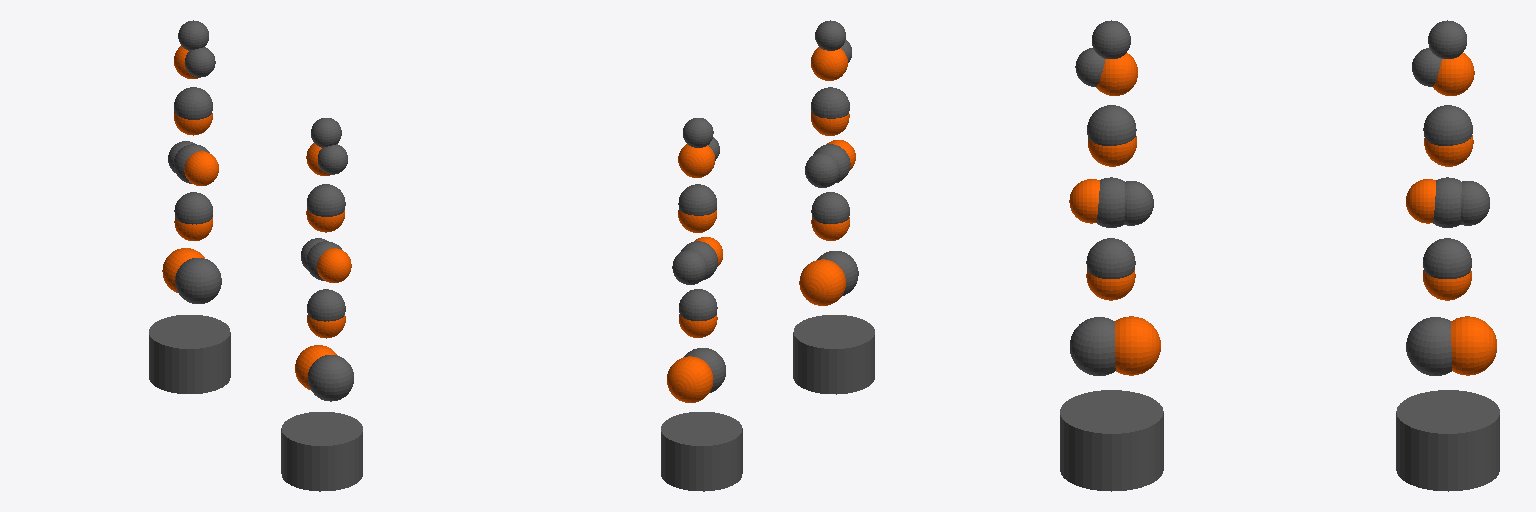
--- Facts derived from the render (not from the file) ---
The picture shows the robot from 3 angles, left to right: view 1: azimuth 30°, elevation 25°; view 2: azimuth 150°, elevation 25°; view 3: azimuth 270°, elevation 25°; orthographic projection.
Model dual_iiwa14 with 21 links and 20 joints (14 revolute, 6 fixed), rooted at base, posed every joint at zero.
Links seen in each view (by area): view 1: right_iiwa_link_0, left_iiwa_link_0, left_iiwa_link_5, right_iiwa_link_5, right_iiwa_link_3, left_iiwa_link_3, left_iiwa_link_1, right_iiwa_link_1, left_iiwa_link_4, right_iiwa_link_4, right_iiwa_link_2, left_iiwa_link_2 (+2 smaller); view 2: right_iiwa_link_0, left_iiwa_link_0, left_iiwa_link_3, right_iiwa_link_3, left_iiwa_link_2, right_iiwa_link_2, left_iiwa_link_5, right_iiwa_link_5, right_iiwa_link_6, left_iiwa_link_6, right_iiwa_link_4, left_iiwa_link_4 (+4 smaller); view 3: left_iiwa_link_0, right_iiwa_link_0, left_iiwa_link_3, right_iiwa_link_3, right_iiwa_link_2, left_iiwa_link_2, left_iiwa_link_5, right_iiwa_link_5, right_iiwa_link_1, left_iiwa_link_1, left_iiwa_link_4, right_iiwa_link_4 (+4 smaller).
Boxes of the visible links, left/top/right/bottom form: right_iiwa_link_0: left=281, top=412, right=362, bottom=491; left_iiwa_link_0: left=149, top=315, right=230, bottom=393; left_iiwa_link_5: left=174, top=47, right=215, bottom=119; right_iiwa_link_5: left=307, top=144, right=347, bottom=216; right_iiwa_link_3: left=301, top=238, right=345, bottom=321; left_iiwa_link_3: left=168, top=141, right=212, bottom=224; left_iiwa_link_1: left=175, top=258, right=221, bottom=303; right_iiwa_link_1: left=308, top=355, right=353, bottom=401; left_iiwa_link_4: left=174, top=111, right=218, bottom=185; right_iiwa_link_4: left=306, top=209, right=351, bottom=282; right_iiwa_link_2: left=295, top=315, right=345, bottom=389; left_iiwa_link_2: left=162, top=217, right=212, bottom=292; right_iiwa_link_0: left=793, top=315, right=874, bottom=394; left_iiwa_link_0: left=661, top=412, right=742, bottom=491; left_iiwa_link_3: left=672, top=241, right=717, bottom=320; right_iiwa_link_3: left=805, top=144, right=850, bottom=223; left_iiwa_link_2: left=667, top=314, right=717, bottom=402; right_iiwa_link_2: left=799, top=217, right=849, bottom=305; left_iiwa_link_5: left=678, top=137, right=719, bottom=215; right_iiwa_link_5: left=811, top=40, right=851, bottom=118; right_iiwa_link_6: left=811, top=47, right=847, bottom=80; left_iiwa_link_6: left=678, top=144, right=714, bottom=177; right_iiwa_link_4: left=811, top=111, right=855, bottom=170; left_iiwa_link_4: left=678, top=210, right=722, bottom=266; left_iiwa_link_0: left=1396, top=390, right=1499, bottom=491; right_iiwa_link_0: left=1060, top=390, right=1163, bottom=491; left_iiwa_link_3: left=1423, top=177, right=1489, bottom=278; right_iiwa_link_3: left=1086, top=177, right=1153, bottom=278; right_iiwa_link_2: left=1086, top=270, right=1160, bottom=375; left_iiwa_link_2: left=1423, top=270, right=1496, bottom=375; left_iiwa_link_5: left=1412, top=48, right=1472, bottom=145; right_iiwa_link_5: left=1075, top=48, right=1136, bottom=145; right_iiwa_link_1: left=1070, top=317, right=1115, bottom=375; left_iiwa_link_1: left=1406, top=317, right=1451, bottom=375; left_iiwa_link_4: left=1406, top=135, right=1473, bottom=223; right_iiwa_link_4: left=1069, top=136, right=1136, bottom=223.
Size in the robot's own frame: 0.278 by 1.18 by 1.33 metres.
Geometry: primitives only (box / cylinder / sphere), no mesh files.

robot.urdf — dual_iiwa14:
<?xml version="1.0" ?>
<!-- =================================================================================== -->
<!-- |    This document was autogenerated by xacro from urdf/dual_iiwa14_polytope_collision.urdf.xacro | -->
<!-- |    EDITING THIS FILE BY HAND IS NOT RECOMMENDED                                 | -->
<!-- =================================================================================== -->
<!-- ===================================================================== -->
<!-- This URDF contains two instances of the iiwa14_polytope_collision models, a
     left one and a right one. They can be distinguished by a "left_" and
     "right_" prefix in front of their link, joint, and transmission names.

     Collision models: complex meshes can drastically affect run time.
     Therefore most collision models are omitted in this model and link 7 uses a
     polytope model.
-->
<!-- ===================================================================== -->
<robot name="dual_iiwa14" xmlns:xacro="http://www.ros.org/wiki/xacro">
  <!-- Import Rviz colors -->
  <material name="Black">
    <color rgba="0.0 0.0 0.0 1.0"/>
  </material>
  <material name="Blue">
    <color rgba="0.0 0.0 0.8 1.0"/>
  </material>
  <material name="Green">
    <color rgba="0.0 0.8 0.0 1.0"/>
  </material>
  <material name="Grey">
    <color rgba="0.4 0.4 0.4 1.0"/>
  </material>
  <material name="Orange">
    <color rgba="1.0 0.423529411765 0.0392156862745 1.0"/>
  </material>
  <material name="Brown">
    <color rgba="0.870588235294 0.811764705882 0.764705882353 1.0"/>
  </material>
  <material name="Red">
    <color rgba="0.8 0.0 0.0 1.0"/>
  </material>
  <material name="White">
    <color rgba="1.0 1.0 1.0 1.0"/>
  </material>
  <!-- Defines a base link that will serve as the model's root. This is
  necessary since URDF requires that the model be a tree.-->
  <link name="base"/>
  <!--joint between {parent} and link_0-->
  <joint name="left_iiwa_base_joint" type="fixed">
    <origin rpy="0 0 0" xyz="0 0.9 0"/>
    <parent link="base"/>
    <child link="left_iiwa_link_0"/>
  </joint>
  <link name="left_iiwa_link_0">
    <inertial>
      <origin rpy="0 0 0" xyz="-0.1 0 0.07"/>
      <mass value="5"/>
      <inertia ixx="0.05" ixy="0" ixz="0" iyy="0.06" iyz="0" izz="0.03"/>
    </inertial>
    <visual>
      <origin rpy="0 0 0" xyz="-0.015 0 0.07"/>
      <geometry>
        <cylinder length="0.17" radius="0.139"/>
      </geometry>
      <material name="Grey"/>
    </visual>
    <collision>
      <origin rpy="0 0 0" xyz="-0.015 0 0.07"/>
      <geometry>
        <cylinder length="0.17" radius="0.139"/>
      </geometry>
      <material name="Grey"/>
    </collision>
    <self_collision_checking>
      <origin rpy="0 0 0" xyz="0 0 0"/>
      <geometry>
        <capsule length="0.25" radius="0.15"/>
      </geometry>
    </self_collision_checking>
  </link>
  <!-- joint between link_0 and link_1 -->
  <joint name="left_iiwa_joint_1" type="revolute">
    <parent link="left_iiwa_link_0"/>
    <child link="left_iiwa_link_1"/>
    <origin rpy="0 0 0" xyz="0 0 0.1575"/>
    <axis xyz="0 0 1"/>
    <limit effort="300" lower="-2.96705972839" upper="2.96705972839" velocity="10"/>
    <safety_controller k_position="100" k_velocity="2" soft_lower_limit="-2.93215314335" soft_upper_limit="2.93215314335"/>
    <dynamics damping="0.5"/>
  </joint>
  <link name="left_iiwa_link_1">
    <inertial>
      <origin rpy="0 0 0" xyz="0 -0.03 0.12"/>
      <mass value="5.76"/>
      <inertia ixx="0.033" ixy="0" ixz="0" iyy="0.0333" iyz="0" izz="0.0123"/>
    </inertial>
    <visual>
      <origin rpy="0 0 0" xyz="0 -0.03344534434 0.1974815417"/>
      <geometry>
        <sphere radius="0.07959901601"/>
      </geometry>
      <material name="Grey"/>
    </visual>
    <collision>
      <origin rpy="0 0 0" xyz="0 -0.03344534434 0.1974815417"/>
      <geometry>
        <sphere radius="0.07959901601"/>
      </geometry>
      <material name="Grey"/>
    </collision>
  </link>
  <!-- joint between link_1 and link_2 -->
  <joint name="left_iiwa_joint_2" type="revolute">
    <parent link="left_iiwa_link_1"/>
    <child link="left_iiwa_link_2"/>
    <origin rpy="1.57079632679   0 3.14159265359" xyz="0 0 0.2025"/>
    <axis xyz="0 0 1"/>
    <limit effort="300" lower="-2.09439510239" upper="2.09439510239" velocity="10"/>
    <safety_controller k_position="100" k_velocity="2" soft_lower_limit="-2.05948851735" soft_upper_limit="2.05948851735"/>
    <dynamics damping="0.5"/>
  </joint>
  <link name="left_iiwa_link_2">
    <inertial>
      <origin rpy="0 0 0" xyz="0.0003 0.059 0.042"/>
      <mass value="6.35"/>
      <!-- 3.95 kuka CAD value-->
      <!--4 Original Drake URDF value-->
      <inertia ixx="0.0305" ixy="0" ixz="0" iyy="0.0304" iyz="0" izz="0.011"/>
    </inertial>
   <visual>
      <origin rpy="0 0 0" xyz="-2.488800594e-017 0.203225991 -0.002065464272"/>
      <geometry>
        <sphere radius="0.06602481863"/>
      </geometry>
      <material name="Orange"/>
    </visual>
    <visual>
      <origin rpy="0 0 0" xyz="3.940519658e-019 -0.003217678485 0.05239182903"/>
      <geometry>
        <sphere radius="0.07959901601"/>
      </geometry>
      <material name="Orange"/>
    </visual>
   <collision>
      <origin rpy="0 0 0" xyz="-2.488800594e-017 0.203225991 -0.002065464272"/>
      <geometry>
        <sphere radius="0.06602481863"/>
      </geometry>
      <material name="Orange"/>
    </collision>
    <collision>
      <origin rpy="0 0 0" xyz="3.940519658e-019 -0.003217678485 0.05239182903"/>
      <geometry>
        <sphere radius="0.07959901601"/>
      </geometry>
      <material name="Orange"/>
    </collision>
  </link>
  <!-- joint between link_2 and link_3 -->
  <joint name="left_iiwa_joint_3" type="revolute">
    <parent link="left_iiwa_link_2"/>
    <child link="left_iiwa_link_3"/>
    <origin rpy="1.57079632679 0 3.14159265359" xyz="0 0.2045 0"/>
    <axis xyz="0 0 1"/>
    <limit effort="300" lower="-2.96705972839" upper="2.96705972839" velocity="10"/>
    <safety_controller k_position="100" k_velocity="2" soft_lower_limit="-2.05948851735" soft_upper_limit="2.05948851735"/>
    <dynamics damping="0.5"/>
  </joint>
  <link name="left_iiwa_link_3">
    <inertial>
      <origin rpy="0 0 0" xyz="0 0.03 0.13"/>
      <mass value="3.5"/>
      <!--3.18 kuka CAD value-->
      <!--3 Original Drake URDF value-->
      <inertia ixx="0.025" ixy="0" ixz="0" iyy="0.0238" iyz="0" izz="0.0076"/>
    </inertial>
    <visual>
      <origin rpy="0 0 0" xyz="7.416339176e-017 0.05241123123 0.213459395"/>
      <geometry>
        <sphere radius="0.06062598796"/>
      </geometry>
      <material name="Grey"/>
    </visual>
    <visual>
      <origin rpy="0 0 0" xyz="4.599245085e-017 -0.002046062069 0.03788349888"/>
      <geometry>
        <sphere radius="0.06602481863"/>
      </geometry>
      <material name="Grey"/>
    </visual>
    <visual>
      <origin rpy="0 0 0" xyz="5.592688496e-017 -0.001027406431 0.2148769469"/>
      <geometry>
        <sphere radius="0.06799385346"/>
      </geometry>
      <material name="Grey"/>
    </visual>
    <collision>
      <origin rpy="0 0 0" xyz="7.416339176e-017 0.05241123123 0.213459395"/>
      <geometry>
        <sphere radius="0.06062598796"/>
      </geometry>
      <material name="Green"/>
    </collision>
    <collision>
      <origin rpy="0 0 0" xyz="4.599245085e-017 -0.002046062069 0.03788349888"/>
      <geometry>
        <sphere radius="0.06602481863"/>
      </geometry>
      <material name="Green"/>
    </collision>
    <collision>
      <origin rpy="0 0 0" xyz="5.592688496e-017 -0.001027406431 0.2148769469"/>
      <geometry>
        <sphere radius="0.06799385346"/>
      </geometry>
      <material name="Green"/>
    </collision>
  </link>
  <!-- joint between link_3 and link_4 -->
  <joint name="left_iiwa_joint_4" type="revolute">
    <parent link="left_iiwa_link_3"/>
    <child link="left_iiwa_link_4"/>
    <origin rpy="1.57079632679 0 0" xyz="0 0 0.2155"/>
    <axis xyz="0 0 1"/>
    <limit effort="300" lower="-2.09439510239" upper="2.09439510239" velocity="10"/>
    <safety_controller k_position="100" k_velocity="2" soft_lower_limit="-2.05948851735" soft_upper_limit="2.05948851735"/>
    <dynamics damping="0.5"/>
  </joint>
  <link name="left_iiwa_link_4">
    <inertial>
      <origin rpy="0 0 0" xyz="0 0.067 0.034"/>
      <mass value="3.5"/>
      <!--2.74 kuka CAD value-->
      <!--2.7 Original Drake URDF value-->
      <inertia ixx="0.017" ixy="0" ixz="0" iyy="0.0164" iyz="0" izz="0.006"/>
    </inertial>
    <visual>
      <origin rpy="0 0 0" xyz="2.212061137e-017 0.1787589211 -0.001869578351"/>
      <geometry>
        <sphere radius="0.06644602201"/>
      </geometry>
      <material name="Orange"/>
    </visual>
    <visual>
      <origin rpy="0 0 0" xyz="-6.09471084e-018 0.003913255811 0.05368034657"/>
      <geometry>
        <sphere radius="0.05993984276"/>
      </geometry>
      <material name="Orange"/>
    </visual>
    <collision>
      <origin rpy="0 0 0" xyz="2.212061137e-017 0.1787589211 -0.001869578351"/>
      <geometry>
        <sphere radius="0.06644602201"/>
      </geometry>
      <material name="Orange"/>
    </collision>
    <collision>
      <origin rpy="0 0 0" xyz="-6.09471084e-018 0.003913255811 0.05368034657"/>
      <geometry>
        <sphere radius="0.05993984276"/>
      </geometry>
      <material name="Orange"/>
    </collision>
  </link>
  <!-- joint between link_4 and link_5 -->
  <joint name="left_iiwa_joint_5" type="revolute">
    <parent link="left_iiwa_link_4"/>
    <child link="left_iiwa_link_5"/>
    <origin rpy="-1.57079632679 3.14159265359 0" xyz="0 0.1845 0"/>
    <axis xyz="0 0 1"/>
    <limit effort="300" lower="-2.96705972839" upper="2.96705972839" velocity="10"/>
    <safety_controller k_position="100" k_velocity="2" soft_lower_limit="-2.05948851735" soft_upper_limit="2.05948851735"/>
    <dynamics damping="0.5"/>
  </joint>
  <link name="left_iiwa_link_5">
    <inertial>
      <origin rpy="0 0 0" xyz="0.0001 0.021 0.076"/>
      <mass value="3.5"/>
      <!--1.69 kuka CAD value-->
      <!--1.7 Original Drake URDF value-->
      <inertia ixx="0.01" ixy="0" ixz="0" iyy="0.0087" iyz="0" izz="0.00449"/>
    </inertial>
    <visual>
      <origin rpy="0 0 0" xyz="3.178830537e-017 0.0445161559 0.2150550559"/>
      <geometry>
        <sphere radius="0.05281876964"/>
      </geometry>
      <material name="Grey"/>
    </visual>
    <visual>
      <origin rpy="0 0 0" xyz="3.716540503e-018 9.478746123e-005 0.0302530688"/>
      <geometry>
        <sphere radius="0.06644602201"/>
      </geometry>
      <material name="Grey"/>
    </visual>    
    <collision>
      <origin rpy="0 0 0" xyz="3.178830537e-017 0.0445161559 0.2150550559"/>
      <geometry>
        <sphere radius="0.05281876964"/>
      </geometry>
      <material name="Grey"/>
    </collision>
    <collision>
      <origin rpy="0 0 0" xyz="3.716540503e-018 9.478746123e-005 0.0302530688"/>
      <geometry>
        <sphere radius="0.06644602201"/>
      </geometry>
      <material name="Grey"/>
    </collision>
  </link>
  <!-- joint between link_5 and link_6 -->
  <joint name="left_iiwa_joint_6" type="revolute">
    <parent link="left_iiwa_link_5"/>
    <child link="left_iiwa_link_6"/>
    <origin rpy="1.57079632679 0 0" xyz="0 0 0.2155"/>
    <axis xyz="0 0 1"/>
    <limit effort="300" lower="-2.09439510239" upper="2.09439510239" velocity="10"/>
    <safety_controller k_position="100" k_velocity="2" soft_lower_limit="-2.05948851735" soft_upper_limit="2.05948851735"/>
    <dynamics damping="0.5"/>
  </joint>
  <link name="left_iiwa_link_6">
    <inertial>
      <origin rpy="0 0 0" xyz="0 0.0006 0.0004"/>
      <mass value="1.8"/>
      <!--1.8 kuka CAD value-->
      <!--1.8 Original Drake URDF value-->
      <inertia ixx="0.0049" ixy="0" ixz="0" iyy="0.0047" iyz="0" izz="0.0036"/>
    </inertial>
    <visual>
      <origin rpy="0 0 0" xyz="-2.904627567e-018 -0.01623589495 0.00748218906"/>
      <geometry>
        <sphere radius="0.06341754633"/>
      </geometry>
      <material name="Orange"/>
    </visual>
    <collision>
      <origin rpy="0 0 0" xyz="-2.904627567e-018 -0.01623589495 0.00748218906"/>
      <geometry>
        <sphere radius="0.06341754633"/>
      </geometry>
      <material name="Orange"/>
    </collision>
  </link>
  <!-- joint between link_6 and link_7 -->
  <joint name="left_iiwa_joint_7" type="revolute">
    <parent link="left_iiwa_link_6"/>
    <child link="left_iiwa_link_7"/>
    <origin rpy="-1.57079632679 3.14159265359 0" xyz="0 0.081 0"/>
    <axis xyz="0 0 1"/>
    <limit effort="300" lower="-3.05432619099" upper="3.05432619099" velocity="10"/>
    <safety_controller k_position="100" k_velocity="2" soft_lower_limit="-3.01941960595" soft_upper_limit="3.01941960595"/>
    <dynamics damping="0.5"/>
  </joint>
  <link name="left_iiwa_link_7">
    <inertial>
      <origin rpy="0 0 0" xyz="0 0 0.02"/>
      <mass value="1.2"/>
      <!--0.31 kuka CAD value-->
      <!--0.3 Original Drake URDF value-->
      <inertia ixx="0.001" ixy="0" ixz="0" iyy="0.001" iyz="0" izz="0.001"/>
    </inertial>
    <visual>
      <origin rpy="0 0 0" xyz="-3.533832164e-019 -0.001260393754 -0.001625199191"/>
      <geometry>
        <sphere radius="0.05285650291"/>
      </geometry>
      <material name="Grey"/>
    </visual>
    <collision>
      <origin rpy="0 0 0" xyz="-3.533832164e-019 -0.001260393754 -0.001625199191"/>
      <geometry>
        <sphere radius="0.05285650291"/>
      </geometry>
      <material name="Grey"/>
    </collision>
  </link>
  <joint name="left_iiwa_joint_ee" type="fixed">
    <parent link="left_iiwa_link_7"/>
    <child link="left_iiwa_link_ee_kuka"/>
    <origin rpy="3.14159265359 3.14159265359 3.14159265359" xyz="0 0 0.045"/>
    <axis xyz="0 0 1"/>
  </joint>
  <link name="left_iiwa_link_ee_kuka">
    </link>
  <joint name="tool0_joint" type="fixed">
    <parent link="left_iiwa_link_7"/>
    <child link="left_iiwa_link_ee"/>
    <origin rpy="0 -1.57079632679 0" xyz="0 0 0.045"/>
  </joint>
  <link name="left_iiwa_link_ee">
    </link>
  <frame link="left_iiwa_link_ee" name="left_iiwa_frame_ee" rpy="3.14159265359 0 1.57079632679" xyz="0.09 0 0"/>
  <!-- Load Gazebo lib and set the robot namespace -->
  <gazebo>
    <plugin filename="libgazebo_ros_control.so" name="gazebo_ros_controller">
      <robotNamespace>/left_iiwa</robotNamespace>
    </plugin>
  </gazebo>
  <!-- Link0 -->
  <gazebo reference="iiwa_link_0">
    <material>Gazebo/Grey</material>
    <mu1>0.2</mu1>
    <mu2>0.2</mu2>
  </gazebo>
  <!-- Link1 -->
  <gazebo reference="iiwa_link_1">
    <material>Gazebo/Orange</material>
    <mu1>0.2</mu1>
    <mu2>0.2</mu2>
  </gazebo>
  <!-- Link2 -->
  <gazebo reference="iiwa_link_2">
    <material>Gazebo/Orange</material>
    <mu1>0.2</mu1>
    <mu2>0.2</mu2>
  </gazebo>
  <!-- Link3 -->
  <gazebo reference="iiwa_link_3">
    <material>Gazebo/Orange</material>
    <mu1>0.2</mu1>
    <mu2>0.2</mu2>
  </gazebo>
  <!-- Link4 -->
  <gazebo reference="iiwa_link_4">
    <material>Gazebo/Orange</material>
    <mu1>0.2</mu1>
    <mu2>0.2</mu2>
  </gazebo>
  <!-- Link5 -->
  <gazebo reference="iiwa_link_5">
    <material>Gazebo/Orange</material>
    <mu1>0.2</mu1>
    <mu2>0.2</mu2>
  </gazebo>
  <!-- Link6 -->
  <gazebo reference="iiwa_link_6">
    <material>Gazebo/Orange</material>
    <mu1>0.2</mu1>
    <mu2>0.2</mu2>
  </gazebo>
  <!-- Link7 -->
  <gazebo reference="iiwa_link_7">
    <material>Gazebo/Grey</material>
    <mu1>0.2</mu1>
    <mu2>0.2</mu2>
  </gazebo>
  <transmission name="left_iiwa_tran_1">
    <robotNamespace>/left_iiwa</robotNamespace>
    <type>transmission_interface/SimpleTransmission</type>
    <joint name="left_iiwa_joint_1">
      <hardwareInterface>PositionJointInterface</hardwareInterface>
    </joint>
    <actuator name="left_iiwa_motor_1">
      <hardwareInterface>PositionJointInterface</hardwareInterface>
      <mechanicalReduction>1</mechanicalReduction>
    </actuator>
  </transmission>
  <transmission name="left_iiwa_tran_2">
    <robotNamespace>/left_iiwa</robotNamespace>
    <type>transmission_interface/SimpleTransmission</type>
    <joint name="left_iiwa_joint_2">
      <hardwareInterface>PositionJointInterface</hardwareInterface>
    </joint>
    <actuator name="left_iiwa_motor_2">
      <hardwareInterface>PositionJointInterface</hardwareInterface>
      <mechanicalReduction>1</mechanicalReduction>
    </actuator>
  </transmission>
  <transmission name="left_iiwa_tran_3">
    <robotNamespace>/left_iiwa</robotNamespace>
    <type>transmission_interface/SimpleTransmission</type>
    <joint name="left_iiwa_joint_3">
      <hardwareInterface>PositionJointInterface</hardwareInterface>
    </joint>
    <actuator name="left_iiwa_motor_3">
      <hardwareInterface>PositionJointInterface</hardwareInterface>
      <mechanicalReduction>1</mechanicalReduction>
    </actuator>
  </transmission>
  <transmission name="left_iiwa_tran_4">
    <robotNamespace>/left_iiwa</robotNamespace>
    <type>transmission_interface/SimpleTransmission</type>
    <joint name="left_iiwa_joint_4">
      <hardwareInterface>PositionJointInterface</hardwareInterface>
    </joint>
    <actuator name="left_iiwa_motor_4">
      <hardwareInterface>PositionJointInterface</hardwareInterface>
      <mechanicalReduction>1</mechanicalReduction>
    </actuator>
  </transmission>
  <transmission name="left_iiwa_tran_5">
    <robotNamespace>/left_iiwa</robotNamespace>
    <type>transmission_interface/SimpleTransmission</type>
    <joint name="left_iiwa_joint_5">
      <hardwareInterface>PositionJointInterface</hardwareInterface>
    </joint>
    <actuator name="left_iiwa_motor_5">
      <hardwareInterface>PositionJointInterface</hardwareInterface>
      <mechanicalReduction>1</mechanicalReduction>
    </actuator>
  </transmission>
  <transmission name="left_iiwa_tran_6">
    <robotNamespace>/left_iiwa</robotNamespace>
    <type>transmission_interface/SimpleTransmission</type>
    <joint name="left_iiwa_joint_6">
      <hardwareInterface>PositionJointInterface</hardwareInterface>
    </joint>
    <actuator name="left_iiwa_motor_6">
      <hardwareInterface>PositionJointInterface</hardwareInterface>
      <mechanicalReduction>1</mechanicalReduction>
    </actuator>
  </transmission>
  <transmission name="left_iiwa_tran_7">
    <robotNamespace>/left_iiwa</robotNamespace>
    <type>transmission_interface/SimpleTransmission</type>
    <joint name="left_iiwa_joint_7">
      <hardwareInterface>PositionJointInterface</hardwareInterface>
    </joint>
    <actuator name="left_iiwa_motor_7">
      <hardwareInterface>PositionJointInterface</hardwareInterface>
      <mechanicalReduction>1</mechanicalReduction>
    </actuator>
  </transmission>
  <!--joint between {parent} and link_0-->
  <joint name="right_iiwa_base_joint" type="fixed">
    <origin rpy="0 0 0" xyz="0 0 0"/>
    <parent link="base"/>
    <child link="right_iiwa_link_0"/>
  </joint>
  <link name="right_iiwa_link_0">
    <inertial>
      <origin rpy="0 0 0" xyz="-0.1 0 0.07"/>
      <mass value="5"/>
      <inertia ixx="0.05" ixy="0" ixz="0" iyy="0.06" iyz="0" izz="0.03"/>
    </inertial>
    <visual>
      <origin rpy="0 0 0" xyz="-0.015 0 0.07"/>
      <geometry>
        <cylinder length="0.17" radius="0.139"/>
      </geometry>
      <material name="Grey"/>
    </visual>    
    <collision>
      <origin rpy="0 0 0" xyz="-0.015 0 0.07"/>
      <geometry>
        <cylinder length="0.17" radius="0.139"/>
      </geometry>
      <material name="Grey"/>
    </collision>
    <self_collision_checking>
      <origin rpy="0 0 0" xyz="0 0 0"/>
      <geometry>
        <capsule length="0.25" radius="0.15"/>
      </geometry>
    </self_collision_checking>
  </link>
  <!-- joint between link_0 and link_1 -->
  <joint name="right_iiwa_joint_1" type="revolute">
    <parent link="right_iiwa_link_0"/>
    <child link="right_iiwa_link_1"/>
    <origin rpy="0 0 0" xyz="0 0 0.1575"/>
    <axis xyz="0 0 1"/>
    <limit effort="300" lower="-2.96705972839" upper="2.96705972839" velocity="10"/>
    <safety_controller k_position="100" k_velocity="2" soft_lower_limit="-2.93215314335" soft_upper_limit="2.93215314335"/>
    <dynamics damping="0.5"/>
  </joint>
  <link name="right_iiwa_link_1">
    <inertial>
      <origin rpy="0 0 0" xyz="0 -0.03 0.12"/>
      <mass value="5.76"/>
      <inertia ixx="0.033" ixy="0" ixz="0" iyy="0.0333" iyz="0" izz="0.0123"/>
    </inertial>
    <visual>
      <origin rpy="0 0 0" xyz="0 -0.03344534434 0.1974815417"/>
      <geometry>
        <sphere radius="0.07959901601"/>
      </geometry>
      <material name="Grey"/>
    </visual>    
    <collision>
      <origin rpy="0 0 0" xyz="0 -0.03344534434 0.1974815417"/>
      <geometry>
        <sphere radius="0.07959901601"/>
      </geometry>
      <material name="Grey"/>
    </collision>
  </link>
  <!-- joint between link_1 and link_2 -->
  <joint name="right_iiwa_joint_2" type="revolute">
    <parent link="right_iiwa_link_1"/>
    <child link="right_iiwa_link_2"/>
    <origin rpy="1.57079632679   0 3.14159265359" xyz="0 0 0.2025"/>
    <axis xyz="0 0 1"/>
    <limit effort="300" lower="-2.09439510239" upper="2.09439510239" velocity="10"/>
    <safety_controller k_position="100" k_velocity="2" soft_lower_limit="-2.05948851735" soft_upper_limit="2.05948851735"/>
    <dynamics damping="0.5"/>
  </joint>
  <link name="right_iiwa_link_2">
    <inertial>
      <origin rpy="0 0 0" xyz="0.0003 0.059 0.042"/>
      <mass value="6.35"/>
      <!-- 3.95 kuka CAD value-->
      <!--4 Original Drake URDF value-->
      <inertia ixx="0.0305" ixy="0" ixz="0" iyy="0.0304" iyz="0" izz="0.011"/>
    </inertial>
   <visual>
      <origin rpy="0 0 0" xyz="-2.488800594e-017 0.203225991 -0.002065464272"/>
      <geometry>
        <sphere radius="0.06602481863"/>
      </geometry>
      <material name="Orange"/>
    </visual>
    <visual>
      <origin rpy="0 0 0" xyz="3.940519658e-019 -0.003217678485 0.05239182903"/>
      <geometry>
        <sphere radius="0.07959901601"/>
      </geometry>
      <material name="Orange"/>
    </visual>
   <collision>
      <origin rpy="0 0 0" xyz="-2.488800594e-017 0.203225991 -0.002065464272"/>
      <geometry>
        <sphere radius="0.06602481863"/>
      </geometry>
      <material name="Orange"/>
    </collision>
    <collision>
      <origin rpy="0 0 0" xyz="3.940519658e-019 -0.003217678485 0.05239182903"/>
      <geometry>
        <sphere radius="0.07959901601"/>
      </geometry>
      <material name="Orange"/>
    </collision>
  </link>
  <!-- joint between link_2 and link_3 -->
  <joint name="right_iiwa_joint_3" type="revolute">
    <parent link="right_iiwa_link_2"/>
    <child link="right_iiwa_link_3"/>
    <origin rpy="1.57079632679 0 3.14159265359" xyz="0 0.2045 0"/>
    <axis xyz="0 0 1"/>
    <limit effort="300" lower="-2.96705972839" upper="2.96705972839" velocity="10"/>
    <safety_controller k_position="100" k_velocity="2" soft_lower_limit="-2.05948851735" soft_upper_limit="2.05948851735"/>
    <dynamics damping="0.5"/>
  </joint>
  <link name="right_iiwa_link_3">
    <inertial>
      <origin rpy="0 0 0" xyz="0 0.03 0.13"/>
      <mass value="3.5"/>
      <!--3.18 kuka CAD value-->
      <!--3 Original Drake URDF value-->
      <inertia ixx="0.025" ixy="0" ixz="0" iyy="0.0238" iyz="0" izz="0.0076"/>
    </inertial>
    <visual>
      <origin rpy="0 0 0" xyz="7.416339176e-017 0.05241123123 0.213459395"/>
      <geometry>
        <sphere radius="0.06062598796"/>
      </geometry>
      <material name="Grey"/>
    </visual>
    <visual>
      <origin rpy="0 0 0" xyz="4.599245085e-017 -0.002046062069 0.03788349888"/>
      <geometry>
        <sphere radius="0.06602481863"/>
      </geometry>
      <material name="Grey"/>
    </visual>
    <visual>
      <origin rpy="0 0 0" xyz="5.592688496e-017 -0.001027406431 0.2148769469"/>
      <geometry>
        <sphere radius="0.06799385346"/>
      </geometry>
      <material name="Grey"/>
    </visual>
    <collision>
      <origin rpy="0 0 0" xyz="7.416339176e-017 0.05241123123 0.213459395"/>
      <geometry>
        <sphere radius="0.06062598796"/>
      </geometry>
      <material name="Green"/>
    </collision>
    <collision>
      <origin rpy="0 0 0" xyz="4.599245085e-017 -0.002046062069 0.03788349888"/>
      <geometry>
        <sphere radius="0.06602481863"/>
      </geometry>
      <material name="Green"/>
    </collision>
    <collision>
      <origin rpy="0 0 0" xyz="5.592688496e-017 -0.001027406431 0.2148769469"/>
      <geometry>
        <sphere radius="0.06799385346"/>
      </geometry>
      <material name="Green"/>
    </collision>
  </link>
  <!-- joint between link_3 and link_4 -->
  <joint name="right_iiwa_joint_4" type="revolute">
    <parent link="right_iiwa_link_3"/>
    <child link="right_iiwa_link_4"/>
    <origin rpy="1.57079632679 0 0" xyz="0 0 0.2155"/>
    <axis xyz="0 0 1"/>
    <limit effort="300" lower="-2.09439510239" upper="2.09439510239" velocity="10"/>
    <safety_controller k_position="100" k_velocity="2" soft_lower_limit="-2.05948851735" soft_upper_limit="2.05948851735"/>
    <dynamics damping="0.5"/>
  </joint>
  <link name="right_iiwa_link_4">
    <inertial>
      <origin rpy="0 0 0" xyz="0 0.067 0.034"/>
      <mass value="3.5"/>
      <!--2.74 kuka CAD value-->
      <!--2.7 Original Drake URDF value-->
      <inertia ixx="0.017" ixy="0" ixz="0" iyy="0.0164" iyz="0" izz="0.006"/>
    </inertial>
    <visual>
      <origin rpy="0 0 0" xyz="2.212061137e-017 0.1787589211 -0.001869578351"/>
      <geometry>
        <sphere radius="0.06644602201"/>
      </geometry>
      <material name="Orange"/>
    </visual>
    <visual>
      <origin rpy="0 0 0" xyz="-6.09471084e-018 0.003913255811 0.05368034657"/>
      <geometry>
        <sphere radius="0.05993984276"/>
      </geometry>
      <material name="Orange"/>
    </visual>
    <collision>
      <origin rpy="0 0 0" xyz="2.212061137e-017 0.1787589211 -0.001869578351"/>
      <geometry>
        <sphere radius="0.06644602201"/>
      </geometry>
      <material name="Orange"/>
    </collision>
    <collision>
      <origin rpy="0 0 0" xyz="-6.09471084e-018 0.003913255811 0.05368034657"/>
      <geometry>
        <sphere radius="0.05993984276"/>
      </geometry>
      <material name="Orange"/>
    </collision>
  </link>
  <!-- joint between link_4 and link_5 -->
  <joint name="right_iiwa_joint_5" type="revolute">
    <parent link="right_iiwa_link_4"/>
    <child link="right_iiwa_link_5"/>
    <origin rpy="-1.57079632679 3.14159265359 0" xyz="0 0.1845 0"/>
    <axis xyz="0 0 1"/>
    <limit effort="300" lower="-2.96705972839" upper="2.96705972839" velocity="10"/>
    <safety_controller k_position="100" k_velocity="2" soft_lower_limit="-2.05948851735" soft_upper_limit="2.05948851735"/>
    <dynamics damping="0.5"/>
  </joint>
  <link name="right_iiwa_link_5">
    <inertial>
      <origin rpy="0 0 0" xyz="0.0001 0.021 0.076"/>
      <mass value="3.5"/>
      <!--1.69 kuka CAD value-->
      <!--1.7 Original Drake URDF value-->
      <inertia ixx="0.01" ixy="0" ixz="0" iyy="0.0087" iyz="0" izz="0.00449"/>
    </inertial>
    <visual>
      <origin rpy="0 0 0" xyz="3.178830537e-017 0.0445161559 0.2150550559"/>
      <geometry>
        <sphere radius="0.05281876964"/>
      </geometry>
      <material name="Grey"/>
    </visual>
    <visual>
      <origin rpy="0 0 0" xyz="3.716540503e-018 9.478746123e-005 0.0302530688"/>
      <geometry>
        <sphere radius="0.06644602201"/>
      </geometry>
      <material name="Grey"/>
    </visual>
    <collision>
      <origin rpy="0 0 0" xyz="3.178830537e-017 0.0445161559 0.2150550559"/>
      <geometry>
        <sphere radius="0.05281876964"/>
      </geometry>
      <material name="Grey"/>
    </collision>
    <collision>
      <origin rpy="0 0 0" xyz="3.716540503e-018 9.478746123e-005 0.0302530688"/>
      <geometry>
        <sphere radius="0.06644602201"/>
      </geometry>
      <material name="Grey"/>
    </collision>
  </link>
  <!-- joint between link_5 and link_6 -->
  <joint name="right_iiwa_joint_6" type="revolute">
    <parent link="right_iiwa_link_5"/>
    <child link="right_iiwa_link_6"/>
    <origin rpy="1.57079632679 0 0" xyz="0 0 0.2155"/>
    <axis xyz="0 0 1"/>
    <limit effort="300" lower="-2.09439510239" upper="2.09439510239" velocity="10"/>
    <safety_controller k_position="100" k_velocity="2" soft_lower_limit="-2.05948851735" soft_upper_limit="2.05948851735"/>
    <dynamics damping="0.5"/>
  </joint>
  <link name="right_iiwa_link_6">
    <inertial>
      <origin rpy="0 0 0" xyz="0 0.0006 0.0004"/>
      <mass value="1.8"/>
      <!--1.8 kuka CAD value-->
      <!--1.8 Original Drake URDF value-->
      <inertia ixx="0.0049" ixy="0" ixz="0" iyy="0.0047" iyz="0" izz="0.0036"/>
    </inertial>
    <visual>
      <origin rpy="0 0 0" xyz="-2.904627567e-018 -0.01623589495 0.00748218906"/>
      <geometry>
        <sphere radius="0.06341754633"/>
      </geometry>
      <material name="Orange"/>
    </visual>
    <collision>
      <origin rpy="0 0 0" xyz="-2.904627567e-018 -0.01623589495 0.00748218906"/>
      <geometry>
        <sphere radius="0.06341754633"/>
      </geometry>
      <material name="Orange"/>
    </collision>
  </link>
  <!-- joint between link_6 and link_7 -->
  <joint name="right_iiwa_joint_7" type="revolute">
    <parent link="right_iiwa_link_6"/>
    <child link="right_iiwa_link_7"/>
    <origin rpy="-1.57079632679 3.14159265359 0" xyz="0 0.081 0"/>
    <axis xyz="0 0 1"/>
    <limit effort="300" lower="-3.05432619099" upper="3.05432619099" velocity="10"/>
    <safety_controller k_position="100" k_velocity="2" soft_lower_limit="-3.01941960595" soft_upper_limit="3.01941960595"/>
    <dynamics damping="0.5"/>
  </joint>
  <link name="right_iiwa_link_7">
    <inertial>
      <origin rpy="0 0 0" xyz="0 0 0.02"/>
      <mass value="1.2"/>
      <!--0.31 kuka CAD value-->
      <!--0.3 Original Drake URDF value-->
      <inertia ixx="0.001" ixy="0" ixz="0" iyy="0.001" iyz="0" izz="0.001"/>
    </inertial>
    <visual>
      <origin rpy="0 0 0" xyz="-3.533832164e-019 -0.001260393754 -0.001625199191"/>
      <geometry>
        <sphere radius="0.05285650291"/>
      </geometry>
      <material name="Grey"/>
    </visual>
    <collision>
      <origin rpy="0 0 0" xyz="-3.533832164e-019 -0.001260393754 -0.001625199191"/>
      <geometry>
        <sphere radius="0.05285650291"/>
      </geometry>
      <material name="Grey"/>
    </collision>
  </link>
  <joint name="right_iiwa_joint_ee" type="fixed">
    <parent link="right_iiwa_link_7"/>
    <child link="right_iiwa_link_ee_kuka"/>
    <origin rpy="3.14159265359 3.14159265359 3.14159265359" xyz="0 0 0.045"/>
    <axis xyz="0 0 1"/>
  </joint>
  <link name="right_iiwa_link_ee_kuka">
    </link>
  <joint name="tool1_joint" type="fixed">
    <parent link="right_iiwa_link_7"/>
    <child link="right_iiwa_link_ee"/>
    <origin rpy="0 -1.57079632679 0" xyz="0 0 0.045"/>
  </joint>
  <link name="right_iiwa_link_ee">
    </link>
  <frame link="right_iiwa_link_ee" name="right_iiwa_frame_ee" rpy="3.14159265359 0 1.57079632679" xyz="0.09 0 0"/>
  <!-- Load Gazebo lib and set the robot namespace -->
  <gazebo>
    <plugin filename="libgazebo_ros_control.so" name="gazebo_ros_controller">
      <robotNamespace>/right_iiwa</robotNamespace>
    </plugin>
  </gazebo>
  <!-- Link0 -->
  <gazebo reference="iiwa_link_0">
    <material>Gazebo/Grey</material>
    <mu1>0.2</mu1>
    <mu2>0.2</mu2>
  </gazebo>
  <!-- Link1 -->
  <gazebo reference="iiwa_link_1">
    <material>Gazebo/Orange</material>
    <mu1>0.2</mu1>
    <mu2>0.2</mu2>
  </gazebo>
  <!-- Link2 -->
  <gazebo reference="iiwa_link_2">
    <material>Gazebo/Orange</material>
    <mu1>0.2</mu1>
    <mu2>0.2</mu2>
  </gazebo>
  <!-- Link3 -->
  <gazebo reference="iiwa_link_3">
    <material>Gazebo/Orange</material>
    <mu1>0.2</mu1>
    <mu2>0.2</mu2>
  </gazebo>
  <!-- Link4 -->
  <gazebo reference="iiwa_link_4">
    <material>Gazebo/Orange</material>
    <mu1>0.2</mu1>
    <mu2>0.2</mu2>
  </gazebo>
  <!-- Link5 -->
  <gazebo reference="iiwa_link_5">
    <material>Gazebo/Orange</material>
    <mu1>0.2</mu1>
    <mu2>0.2</mu2>
  </gazebo>
  <!-- Link6 -->
  <gazebo reference="iiwa_link_6">
    <material>Gazebo/Orange</material>
    <mu1>0.2</mu1>
    <mu2>0.2</mu2>
  </gazebo>
  <!-- Link7 -->
  <gazebo reference="iiwa_link_7">
    <material>Gazebo/Grey</material>
    <mu1>0.2</mu1>
    <mu2>0.2</mu2>
  </gazebo>
  <transmission name="right_iiwa_tran_1">
    <robotNamespace>/right_iiwa</robotNamespace>
    <type>transmission_interface/SimpleTransmission</type>
    <joint name="right_iiwa_joint_1">
      <hardwareInterface>PositionJointInterface</hardwareInterface>
    </joint>
    <actuator name="right_iiwa_motor_1">
      <hardwareInterface>PositionJointInterface</hardwareInterface>
      <mechanicalReduction>1</mechanicalReduction>
    </actuator>
  </transmission>
  <transmission name="right_iiwa_tran_2">
    <robotNamespace>/right_iiwa</robotNamespace>
    <type>transmission_interface/SimpleTransmission</type>
    <joint name="right_iiwa_joint_2">
      <hardwareInterface>PositionJointInterface</hardwareInterface>
    </joint>
    <actuator name="right_iiwa_motor_2">
      <hardwareInterface>PositionJointInterface</hardwareInterface>
      <mechanicalReduction>1</mechanicalReduction>
    </actuator>
  </transmission>
  <transmission name="right_iiwa_tran_3">
    <robotNamespace>/right_iiwa</robotNamespace>
    <type>transmission_interface/SimpleTransmission</type>
    <joint name="right_iiwa_joint_3">
      <hardwareInterface>PositionJointInterface</hardwareInterface>
    </joint>
    <actuator name="right_iiwa_motor_3">
      <hardwareInterface>PositionJointInterface</hardwareInterface>
      <mechanicalReduction>1</mechanicalReduction>
    </actuator>
  </transmission>
  <transmission name="right_iiwa_tran_4">
    <robotNamespace>/right_iiwa</robotNamespace>
    <type>transmission_interface/SimpleTransmission</type>
    <joint name="right_iiwa_joint_4">
      <hardwareInterface>PositionJointInterface</hardwareInterface>
    </joint>
    <actuator name="right_iiwa_motor_4">
      <hardwareInterface>PositionJointInterface</hardwareInterface>
      <mechanicalReduction>1</mechanicalReduction>
    </actuator>
  </transmission>
  <transmission name="right_iiwa_tran_5">
    <robotNamespace>/right_iiwa</robotNamespace>
    <type>transmission_interface/SimpleTransmission</type>
    <joint name="right_iiwa_joint_5">
      <hardwareInterface>PositionJointInterface</hardwareInterface>
    </joint>
    <actuator name="right_iiwa_motor_5">
      <hardwareInterface>PositionJointInterface</hardwareInterface>
      <mechanicalReduction>1</mechanicalReduction>
    </actuator>
  </transmission>
  <transmission name="right_iiwa_tran_6">
    <robotNamespace>/right_iiwa</robotNamespace>
    <type>transmission_interface/SimpleTransmission</type>
    <joint name="right_iiwa_joint_6">
      <hardwareInterface>PositionJointInterface</hardwareInterface>
    </joint>
    <actuator name="right_iiwa_motor_6">
      <hardwareInterface>PositionJointInterface</hardwareInterface>
      <mechanicalReduction>1</mechanicalReduction>
    </actuator>
  </transmission>
  <transmission name="right_iiwa_tran_7">
    <robotNamespace>/right_iiwa</robotNamespace>
    <type>transmission_interface/SimpleTransmission</type>
    <joint name="right_iiwa_joint_7">
      <hardwareInterface>PositionJointInterface</hardwareInterface>
    </joint>
    <actuator name="right_iiwa_motor_7">
      <hardwareInterface>PositionJointInterface</hardwareInterface>
      <mechanicalReduction>1</mechanicalReduction>
    </actuator>
  </transmission>
</robot>
